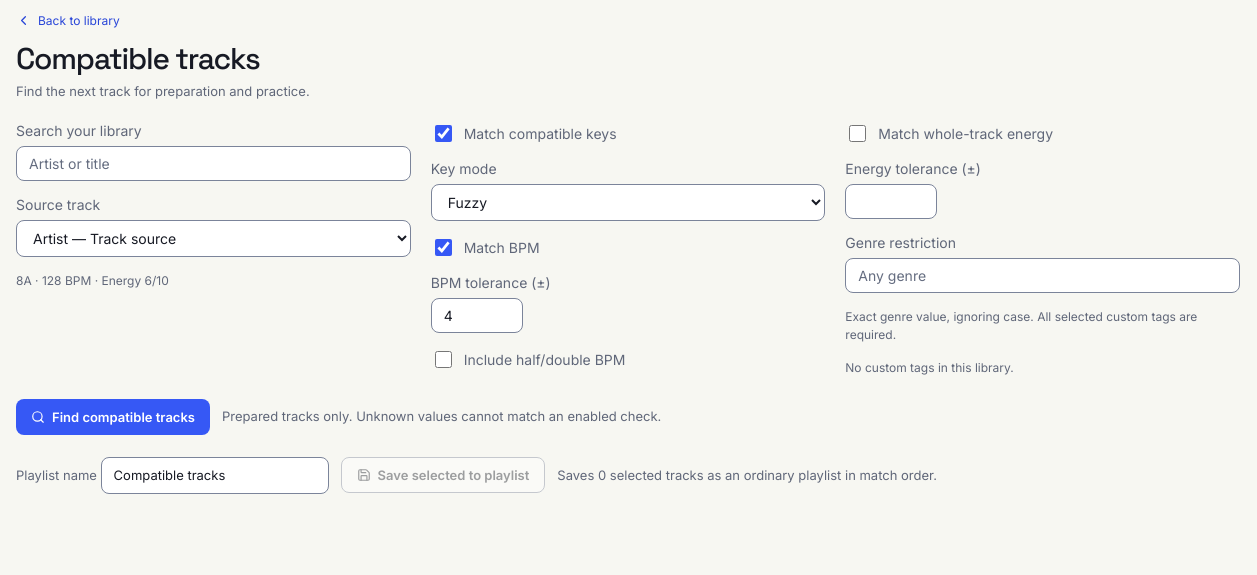
Test: Compatible tracks › shows actionable backend validation and rejects invalid tolerance before searching
Expected: the button "Find compatible tracks" is enabled, [16,398,210,434]
Replace the text in the number field labelled "BPM tolerance" with "-1" at (477,315), box [431,298,523,332]
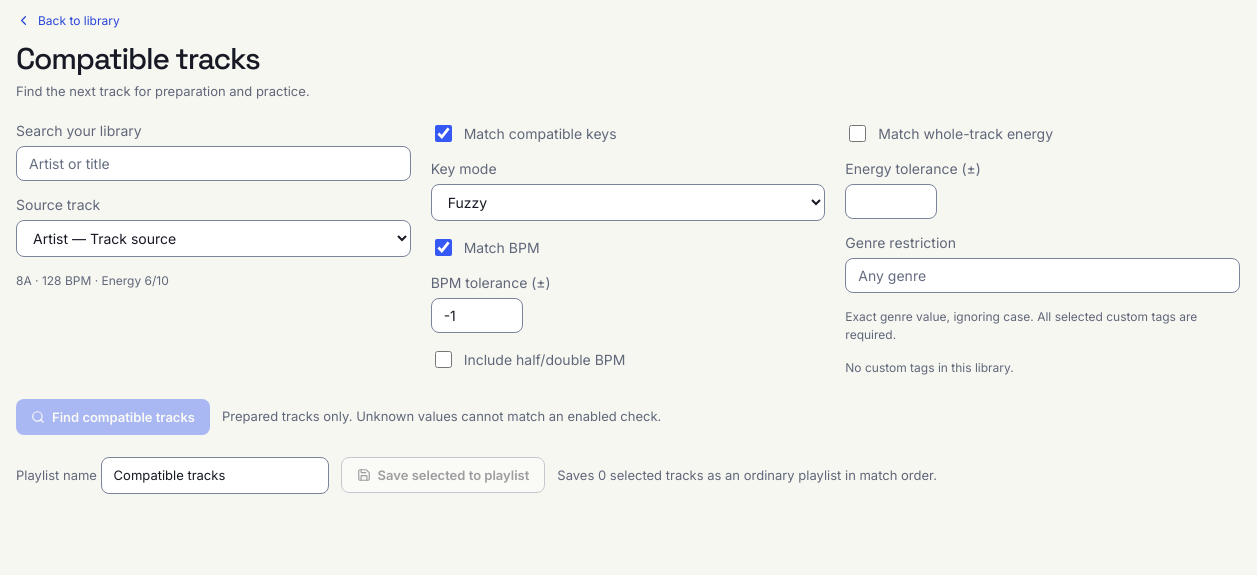
Now the button "Find compatible tracks" is disabled, box [16,398,210,434]
Replace the text in the number field labelled "BPM tolerance" with "4" at (477,315), box [431,298,523,332]
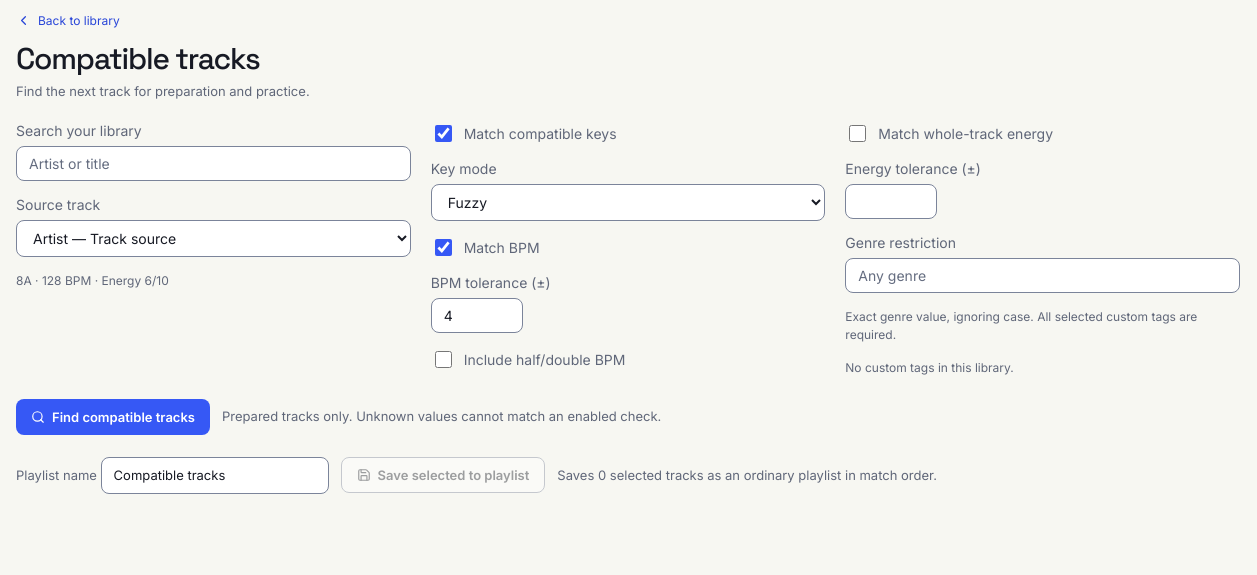
Click the button "Find compatible tracks" at (113,416), box [16,398,210,434]
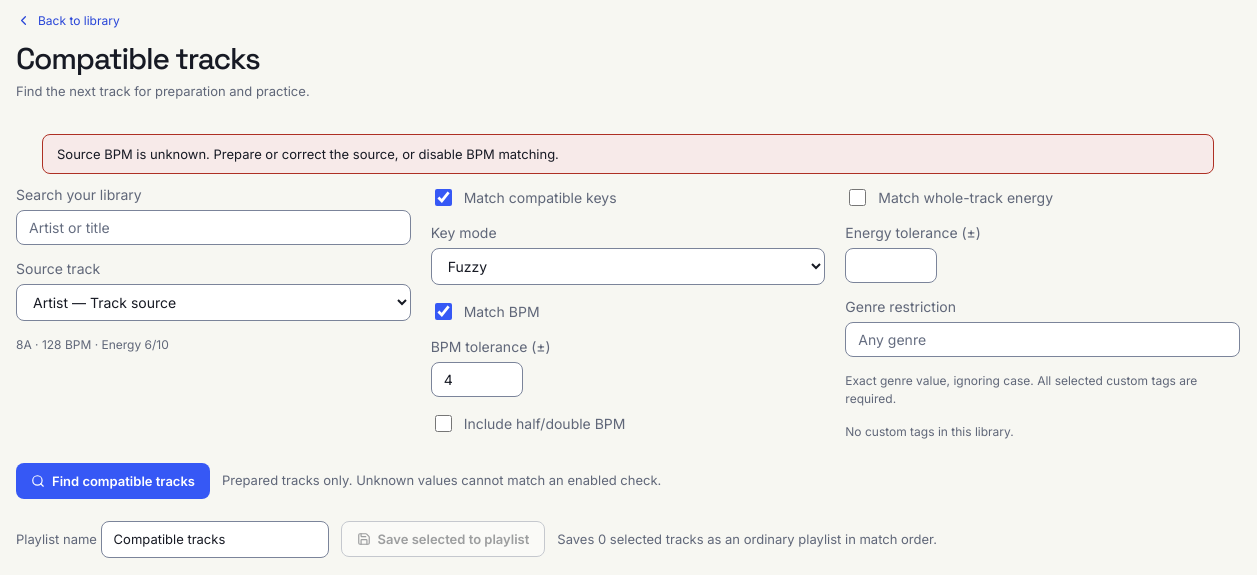
Now the message "Source BPM is unknown. Prepare or correct the source, or disable BPM matching." is shown, box [42,134,1214,174]
Now the message shows "Source BPM is unknown", box [57,146,559,162]
